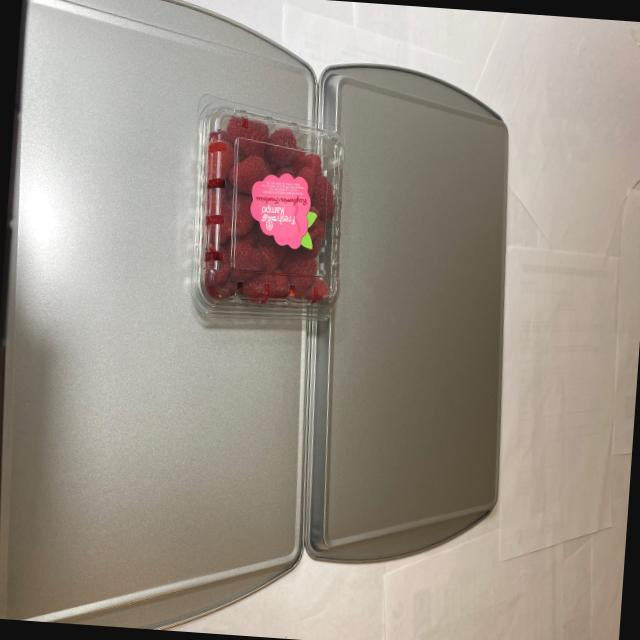raspberries: (182, 114, 341, 310)
